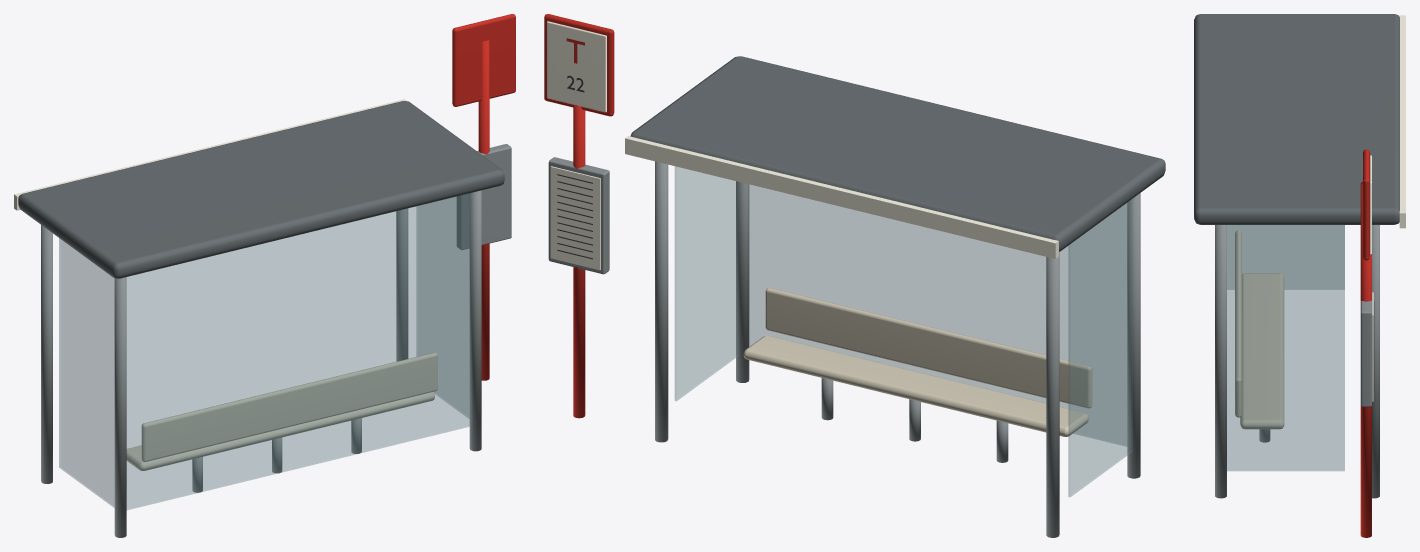
File: shelter.glb
3 renders of one model, left to right at view 1: azimuth 30°, elevation 25°; view 2: azimuth 150°, elevation 25°; view 3: azimuth 270°, elevation 25°, orthographic. The views are drawn at different scales.
Visible parts, largest first — view 1: Blue tinted glazing, Dark slate roof, Brushed steel, Interior cream laminate, DPP vermilion enamel, White markings; view 2: Blue tinted glazing, Dark slate roof, Interior cream laminate, Brushed steel, White markings, DPP vermilion enamel, Chassis graphite; view 3: Dark slate roof, Blue tinted glazing, Interior cream laminate, Brushed steel, DPP vermilion enamel, White markings.
Part boxes in pixels (x1,y1,x2,y2): Blue tinted glazing: (59,193,471,509); Dark slate roof: (18,101,504,278); Brushed steel: (41,144,511,537); Interior cream laminate: (126,352,437,470); DPP vermilion enamel: (452,14,515,380); White markings: (14,99,407,210); Blue tinted glazing: (675,166,1132,496); Dark slate roof: (630,56,1165,251); Interior cream laminate: (743,288,1092,436); Brushed steel: (548,157,1140,537); White markings: (547,21,1058,270); DPP vermilion enamel: (544,14,614,418); Chassis graphite: (557,75,592,259); Dark slate roof: (1194,14,1399,224); Blue tinted glazing: (1227,225,1344,470); Interior cream laminate: (1235,230,1284,429); Brushed steel: (1215,225,1379,498); DPP vermilion enamel: (1360,149,1371,537); White markings: (1370,15,1405,401).
Size of the model in its own units: 4.62 by 3.27 by 1.69.
